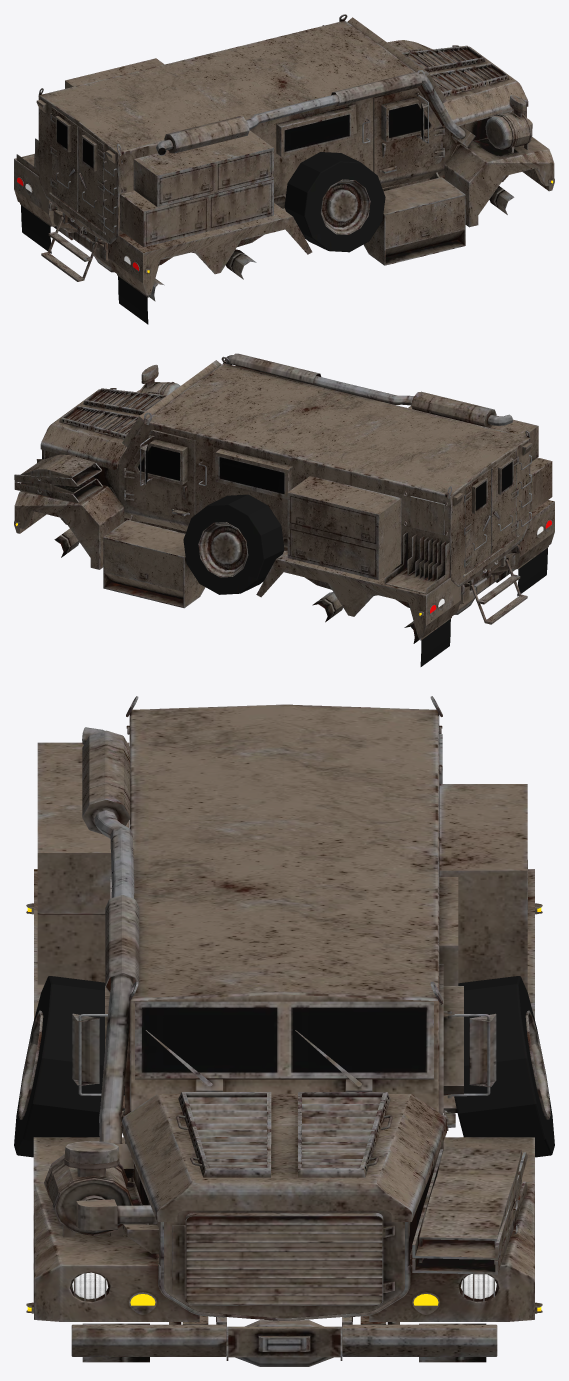
The model's file is offroad.glb.
3 views of the same model, one above another, from view 1: azimuth 30°, elevation 25°; view 2: azimuth 150°, elevation 25°; view 3: azimuth 270°, elevation 25° (orthographic). The views are drawn at different scales.
Visible parts, largest first — view 1: GroundVehicle; view 2: GroundVehicle; view 3: GroundVehicle.
Part boxes in pixels (left/top/right/bottom): GroundVehicle: left=14, top=14, right=554, bottom=324; GroundVehicle: left=14, top=353, right=554, bottom=666; GroundVehicle: left=14, top=696, right=554, bottom=1366.
Bounding box in the file's own units: 3.18 × 1.15 × 1.73.
Materials: 3 (3 with a texture image).
